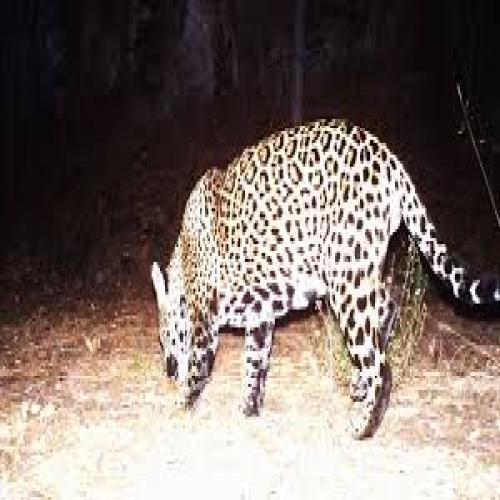jaguar_not-endangered: (150, 116, 498, 438)
